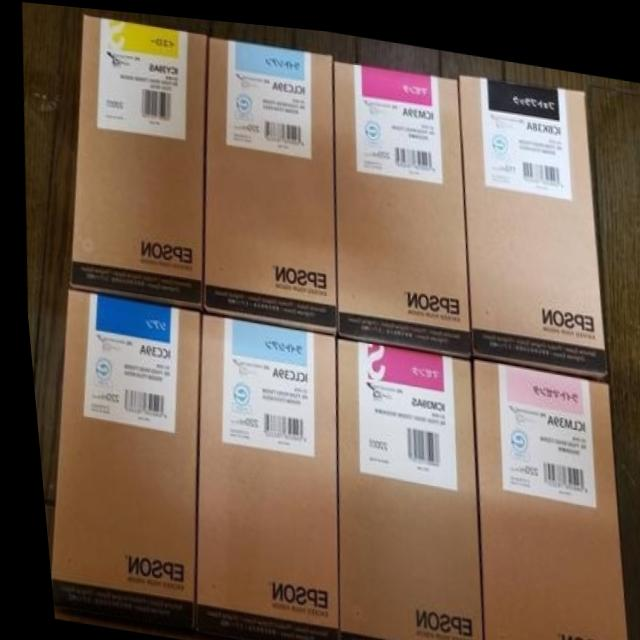box: (39, 286, 194, 639), (185, 309, 328, 640), (327, 332, 469, 640), (458, 64, 600, 366), (468, 350, 615, 640), (64, 11, 206, 307), (332, 54, 464, 348), (200, 33, 331, 328)
